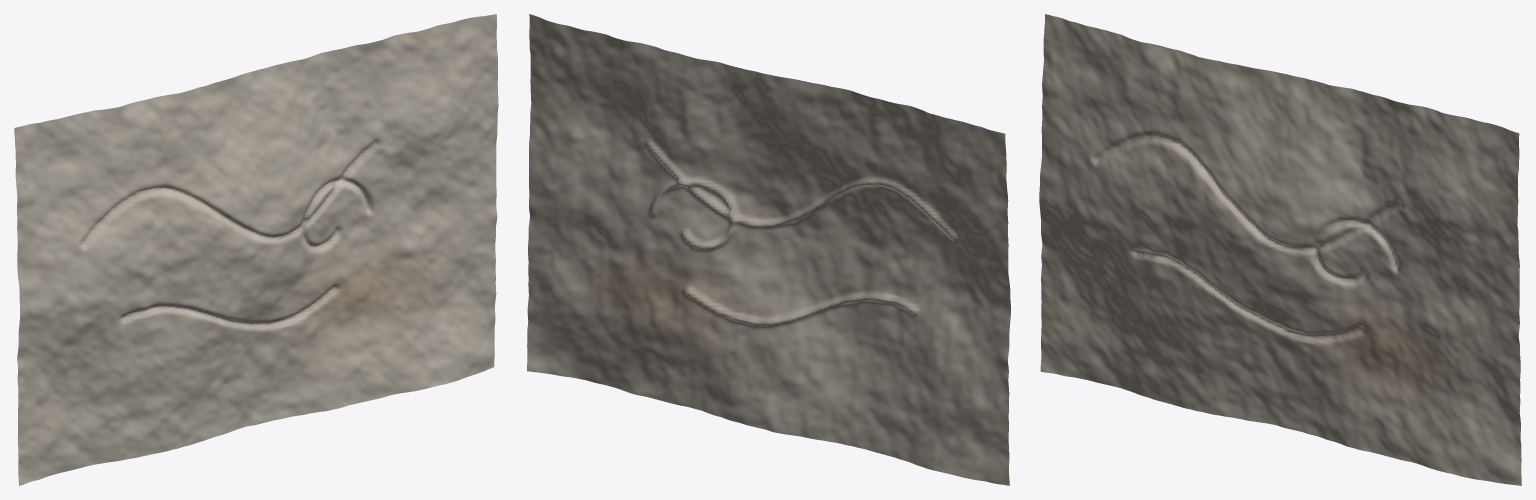
The model's file is paroi-gravee.glb.
3 views of the same model, side by side, from view 1: azimuth 30°, elevation 25°; view 2: azimuth 150°, elevation 25°; view 3: azimuth 330°, elevation 25° (orthographic).
Size of the model in its own units: 2.4 by 1.7 by 0.1468.
